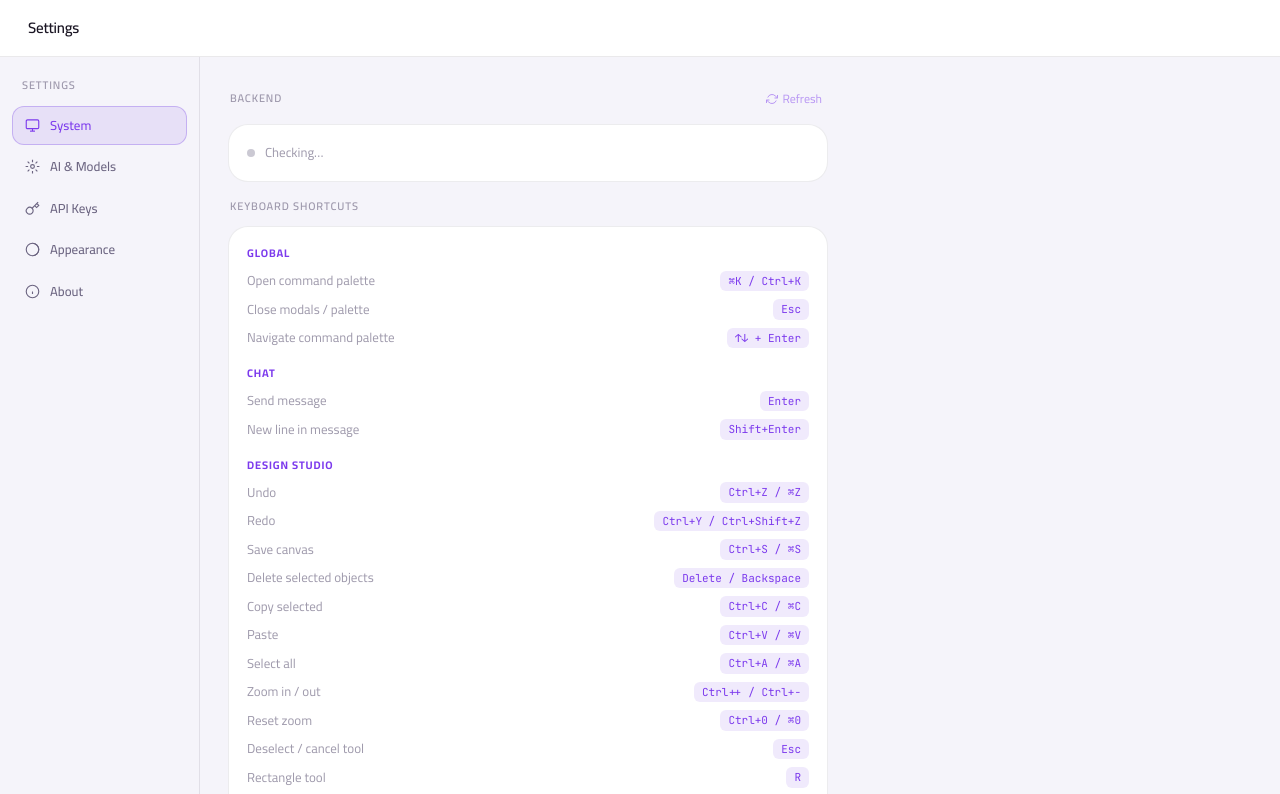
it: ApiKeysTab — renders › renders API Keys section when tab is selected
The image size is (1280, 794).
Click the button "API Keys" at (61, 208), box top-left (25, 196), bottom-right (98, 220)
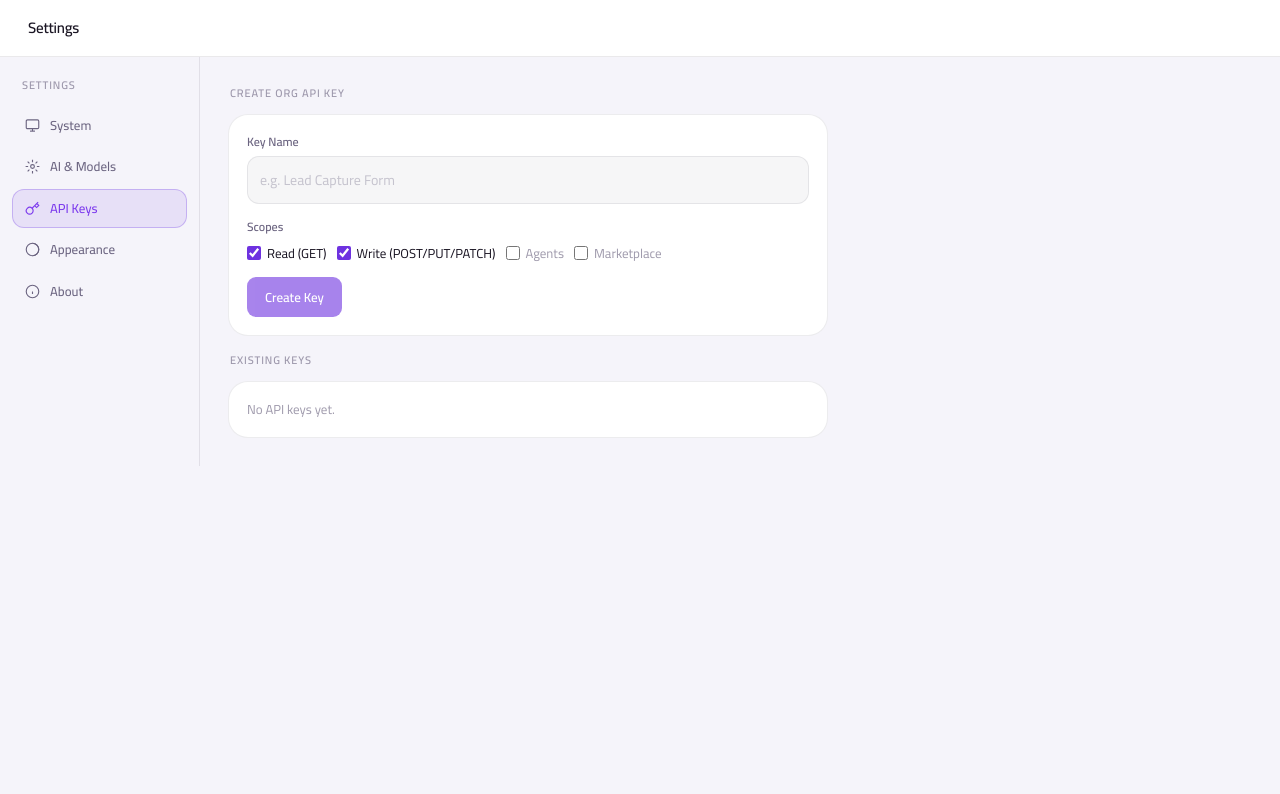
Expected: the text "Create Org API Key" is shown, top-left (230, 83), bottom-right (345, 103)
Expected: the text "Existing Keys" is shown, top-left (230, 350), bottom-right (312, 370)
